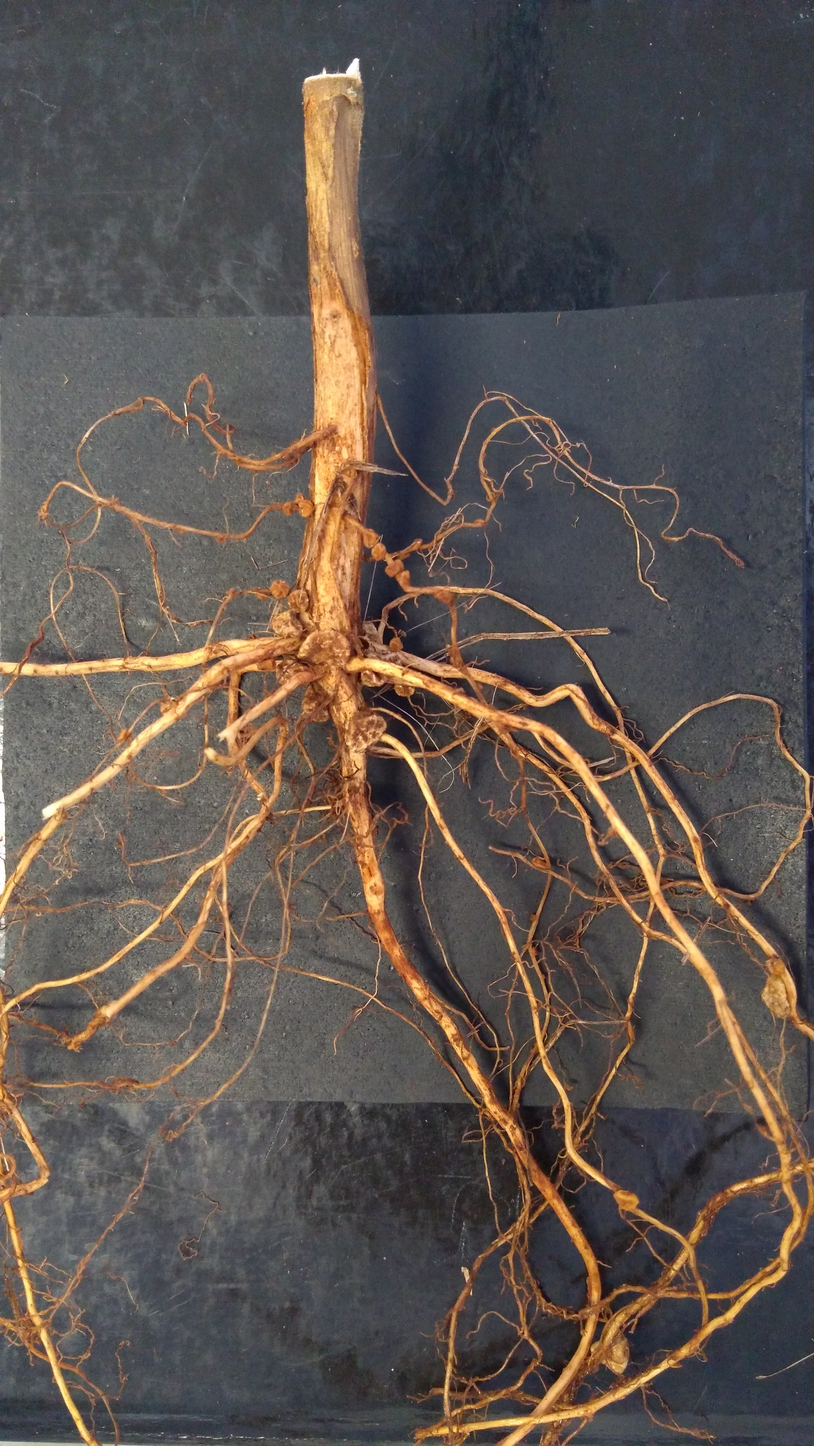nodule: (586, 1322, 632, 1378), (341, 704, 389, 757), (297, 627, 353, 669), (757, 972, 791, 1022), (301, 682, 332, 724), (271, 606, 305, 640), (610, 1188, 640, 1212), (429, 586, 460, 607), (360, 525, 384, 551), (286, 588, 310, 613), (762, 954, 787, 978), (383, 556, 407, 579), (269, 576, 291, 601), (359, 667, 384, 689), (360, 618, 380, 645), (295, 498, 318, 520), (368, 541, 389, 564), (392, 681, 417, 699), (386, 634, 406, 655), (280, 498, 296, 520), (530, 855, 552, 871), (115, 727, 137, 742), (396, 568, 411, 587), (156, 700, 173, 714), (212, 534, 228, 545), (532, 945, 539, 957)
